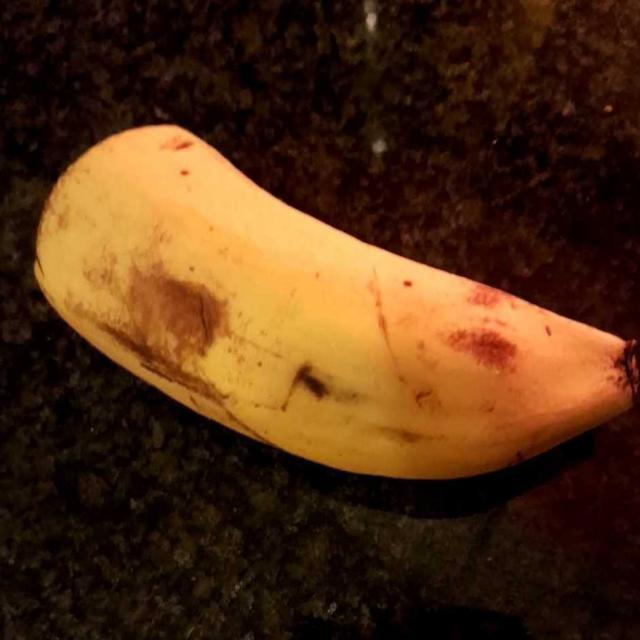banana: (53, 129, 630, 452)
